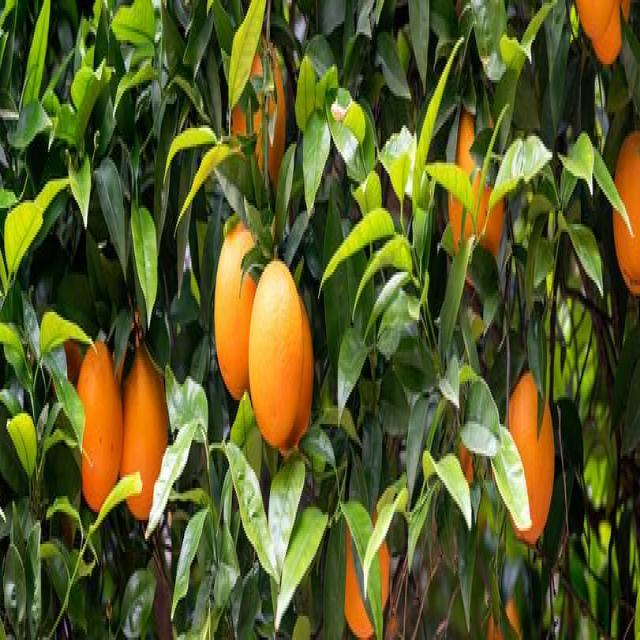Jeruk Sudah Matang: (445, 96, 508, 286), (248, 261, 304, 451), (501, 368, 558, 549), (214, 226, 266, 402), (118, 344, 166, 531), (232, 45, 286, 192), (73, 344, 119, 514), (342, 510, 392, 634), (611, 127, 640, 301), (296, 301, 314, 451), (591, 0, 630, 61), (574, 0, 616, 37)
